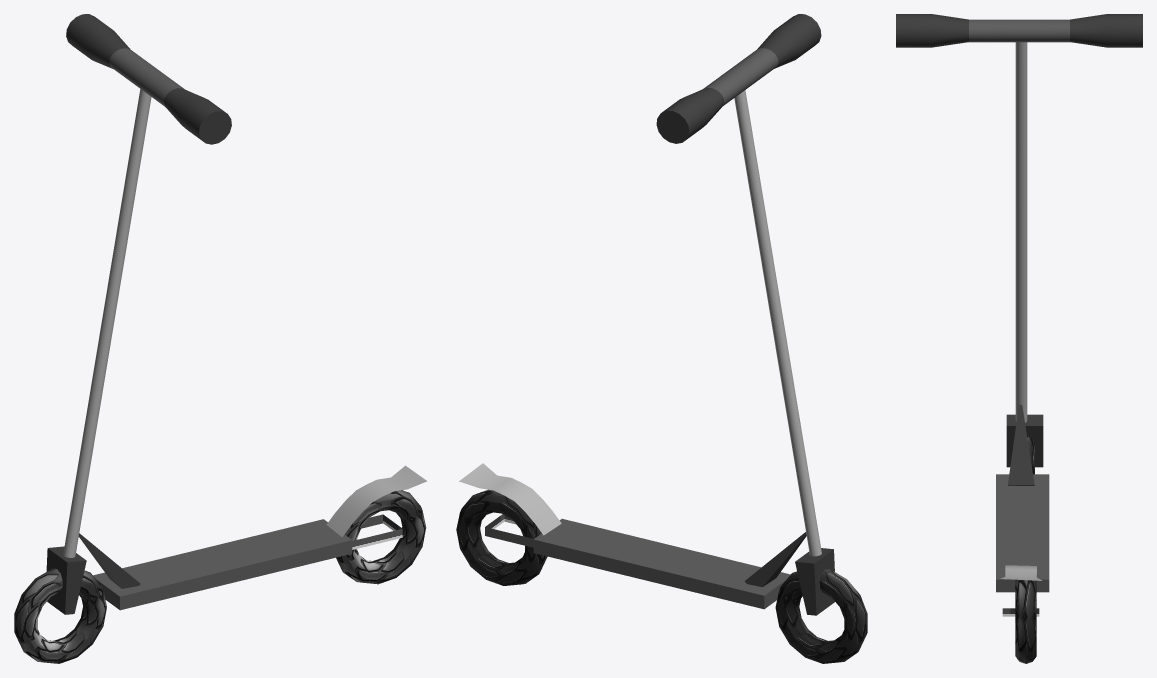
Rendered from scooter.obj.
The picture shows the model from 3 angles, left to right: view 1: azimuth 30°, elevation 25°; view 2: azimuth 150°, elevation 25°; view 3: azimuth 270°, elevation 25°; orthographic projection. The views are drawn at different scales.
Visible parts, largest first — view 1: pasted__polySurface43 group; view 2: pasted__polySurface43 group; view 3: pasted__polySurface43 group.
Part boxes in pixels (left/top/right/bottom): pasted__polySurface43 group: left=14, top=14, right=426, bottom=663; pasted__polySurface43 group: left=456, top=14, right=867, bottom=663; pasted__polySurface43 group: left=896, top=14, right=1142, bottom=663.
Size of the model in its own units: 1.5 by 2.03 by 0.8423.
2 materials, 2 textured.
